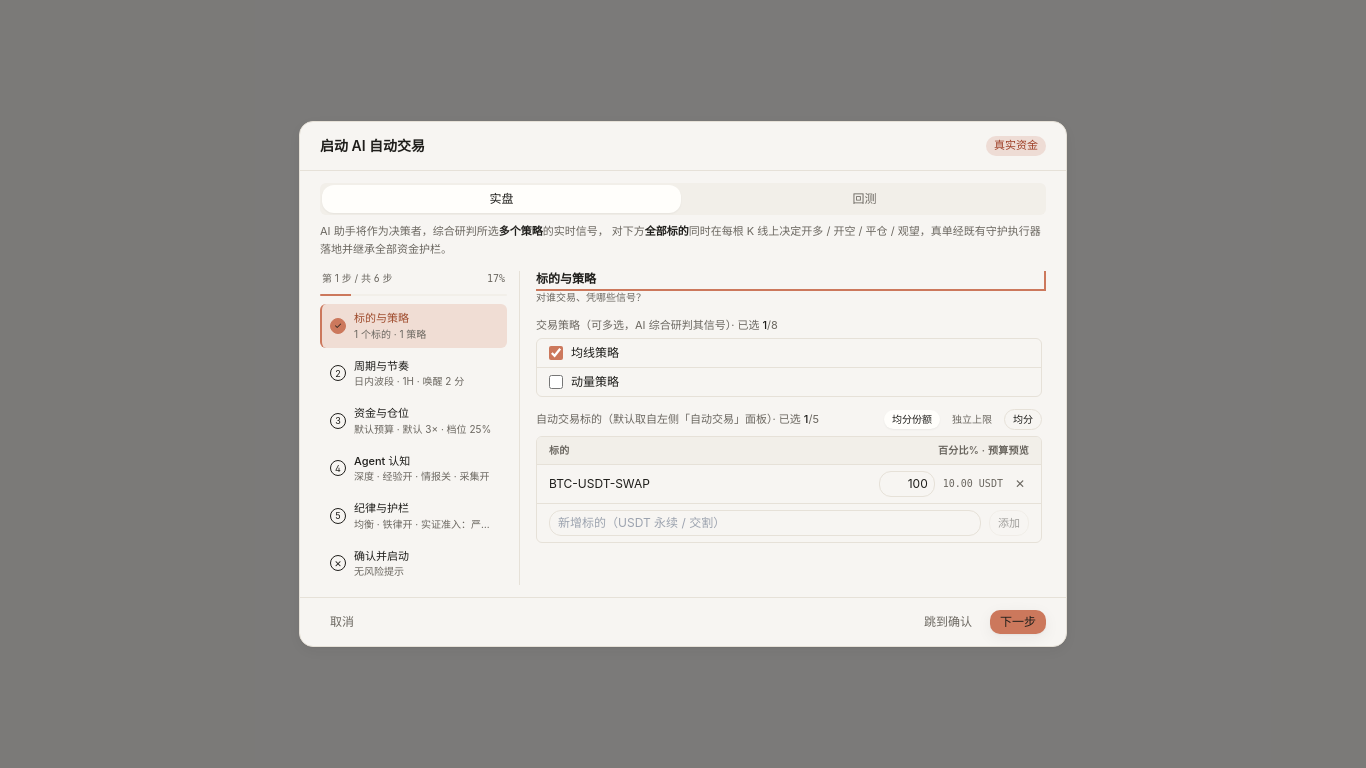
Test case: 后训练轨迹采集 · 向导（trajectory-capture F-5 / F-9） › W-T3 422 的两条 remedies 各自拨动采集状态并给出就地回执（且不渲染运维总闸落点）
Expected: the text "均线策略" is shown, [571,345,619,361]
Click the tab "✕ 确认并启动 无风险提示".
click(414, 563)  # box [320,542,507,585]
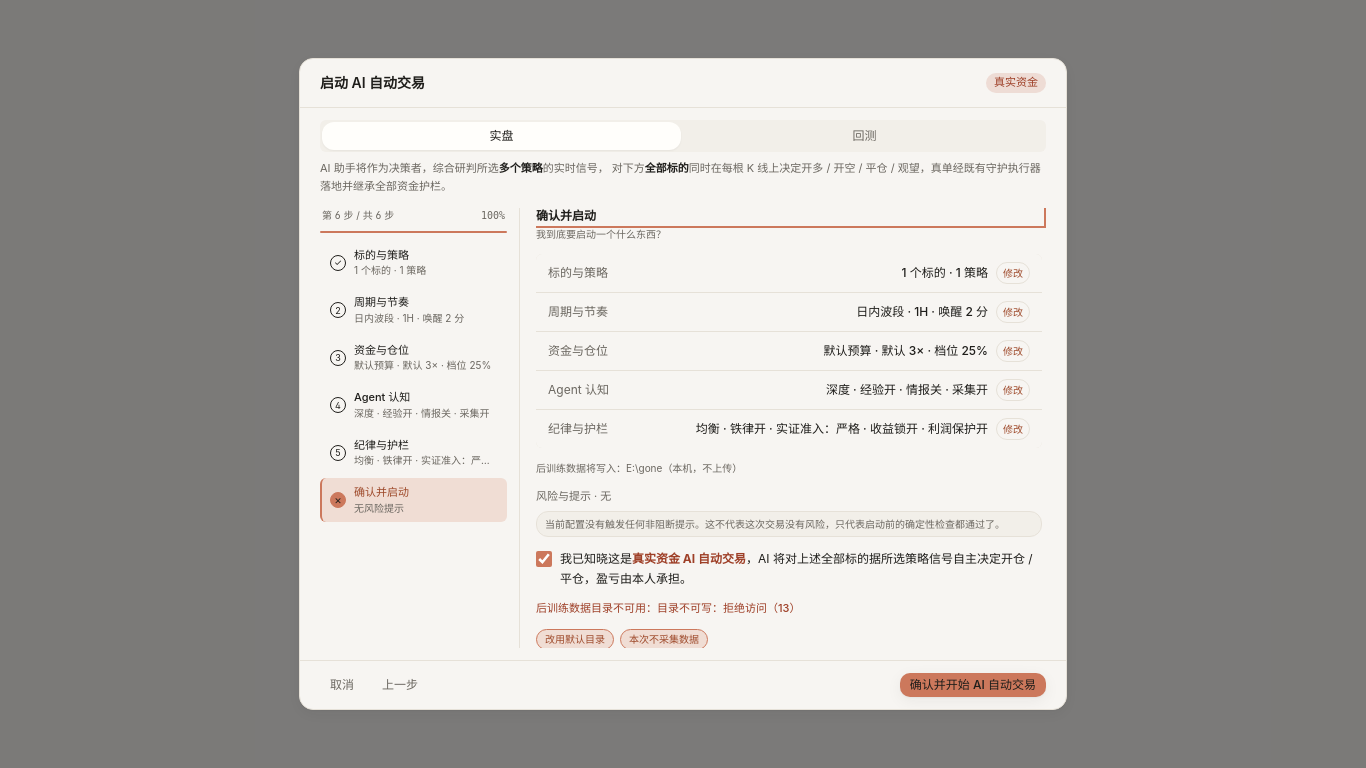
Expected: the element with test id "ai-launch-summary-cognition" shows "采集开", [826,382,988,397]
Expected: the element with test id "ai-start-remedies" is shown, [536,629,708,648]
Click the button with test id "ai-start-remedy-trajectory_use_default_dir".
click(575, 639)  # box [536,629,614,650]
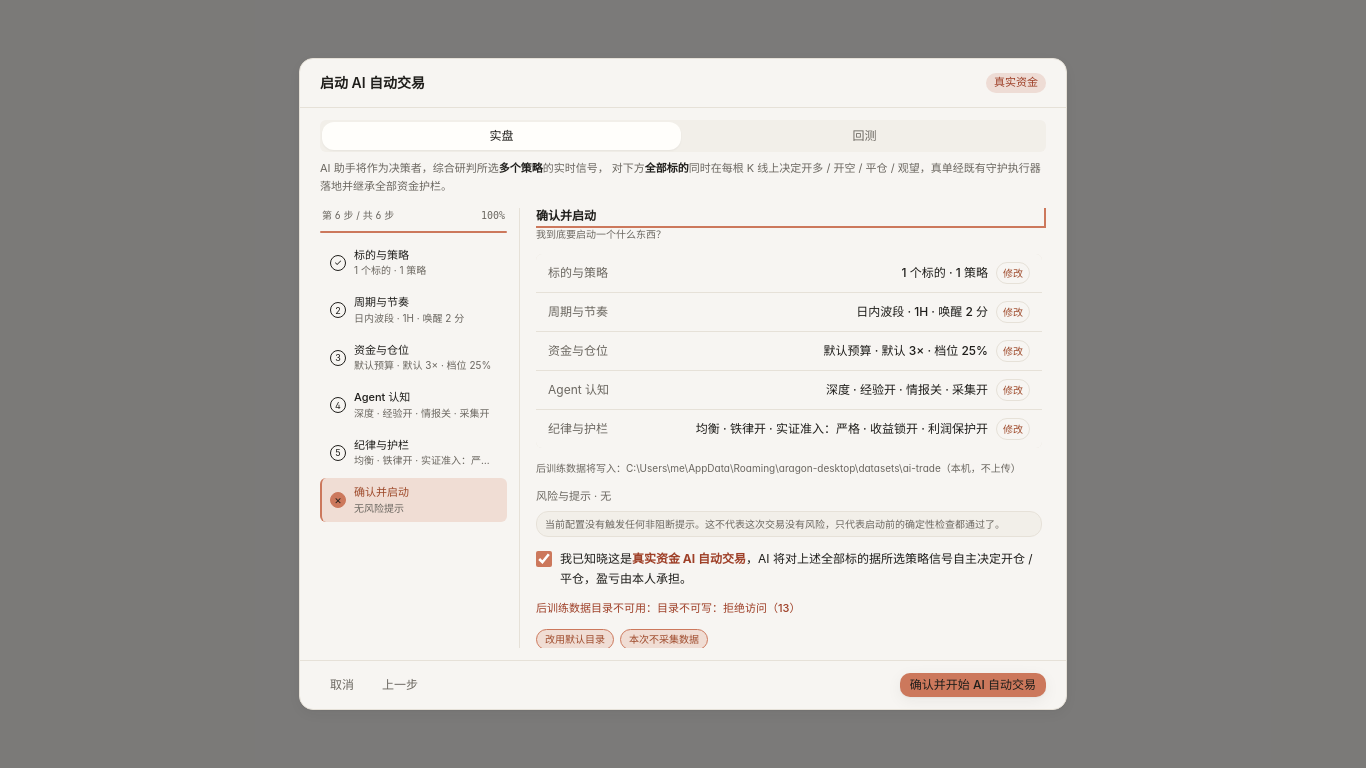
Expected: the text with test id "ai-launch-trajectory-destination" shows "C:\\Users\\me\\AppData\\Roaming\\aragon-desktop\\datasets\\ai-trade", [626,462,941,474]
Click the button with test id "ai-start-remedy-trajectory_disable".
click(664, 639)  # box [620,629,708,650]
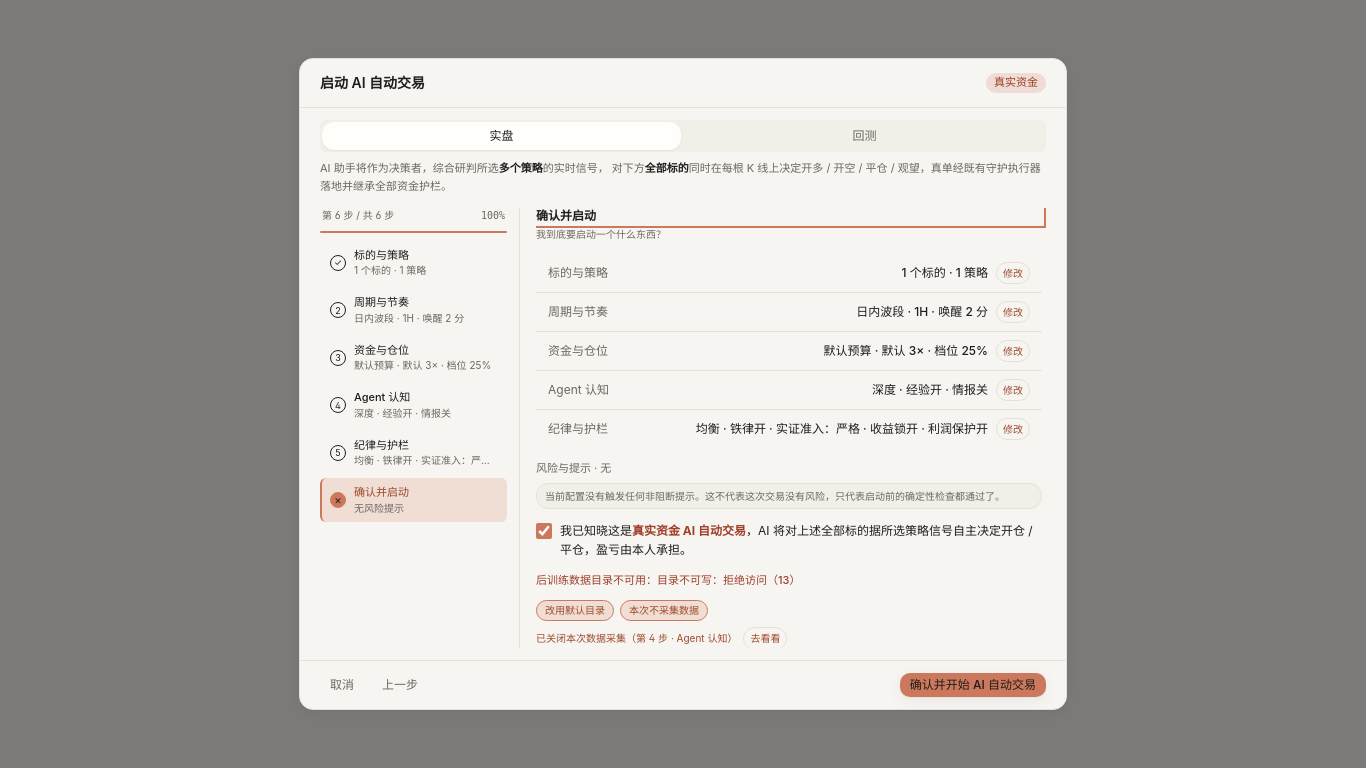
Expected: the element with test id "ai-start-remedy-receipt" shows "已关闭本次数据采集（第 4 步 · Agent 认知）", [536,632,738,644]
Expected: the element with test id "ai-launch-summary-cognition" no longer shows "采集开", [536,371,1042,409]
Click the button "去看看".
click(766, 638)  # box [744,627,788,650]
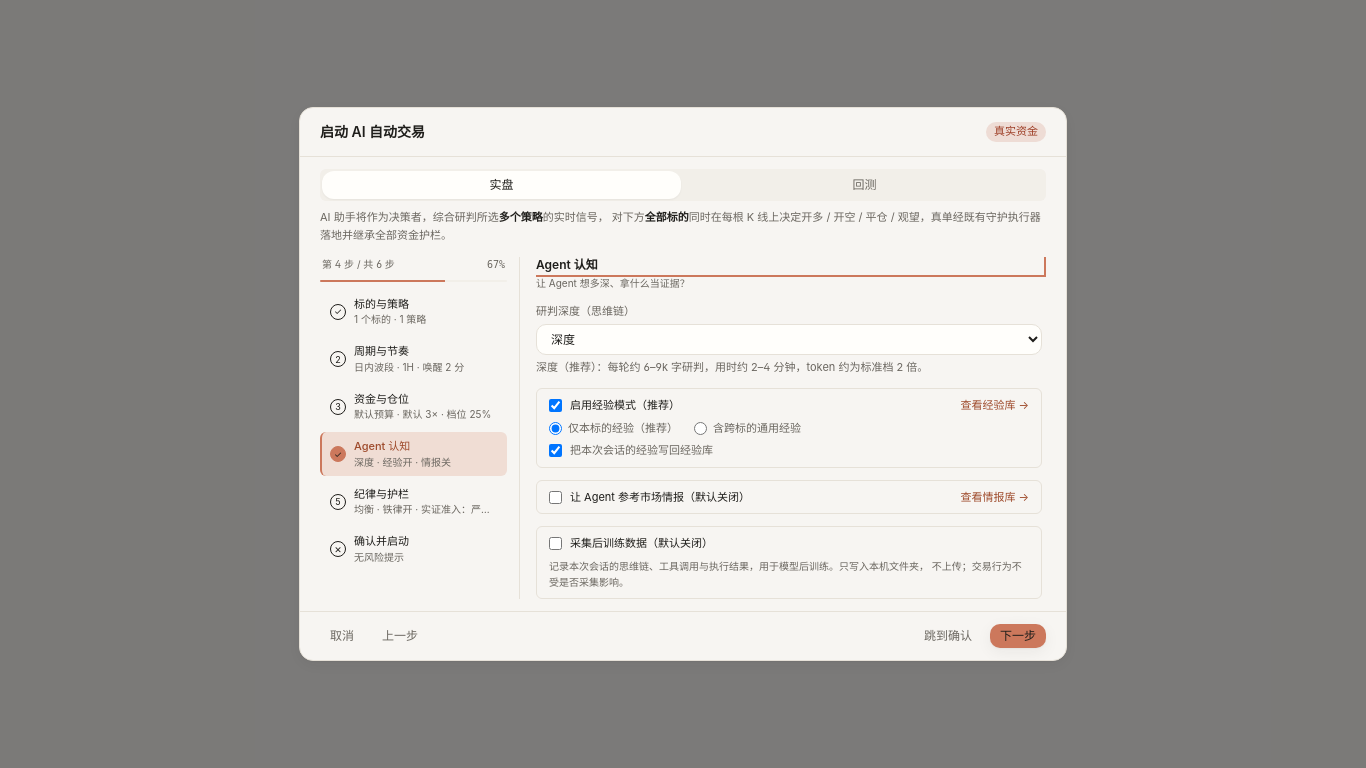
Expected: the heading "Agent 认知" is shown, [536,257,598,272]
Expected: the checkbox labelled "采集后训练数据（默认关闭）" is not checked, [549,537,562,550]
